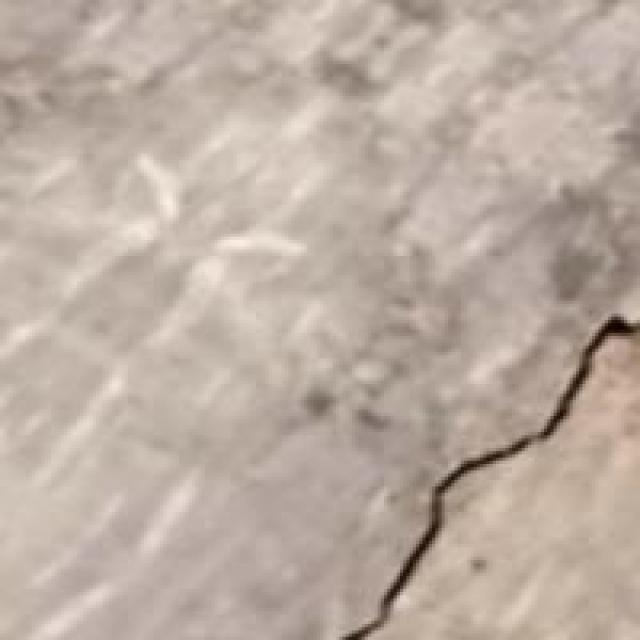crack: (339, 304, 637, 637)
